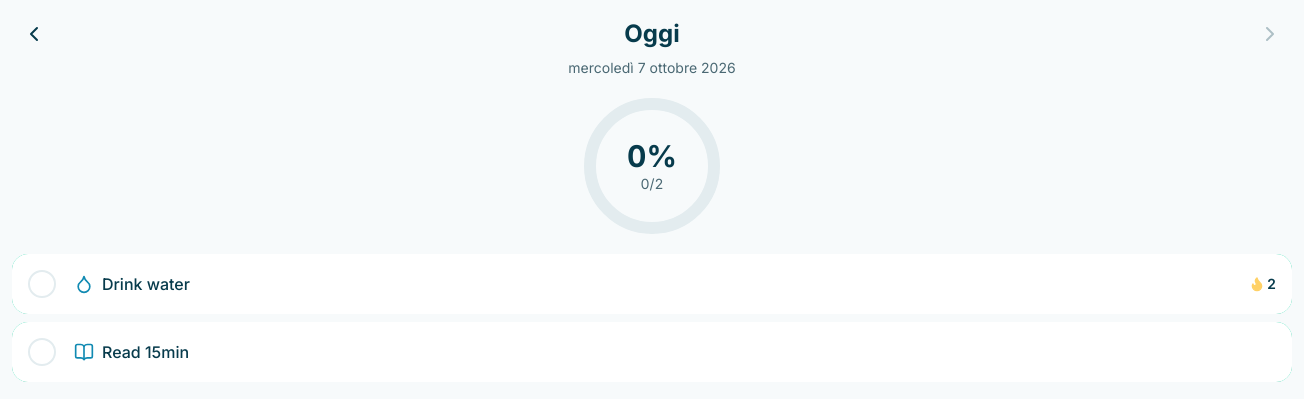
Scenario: HomePage › descrizione al tap sul nome
Click the button "Drink water" at (146, 284), box x1=102 y1=262 x2=1241 y2=306
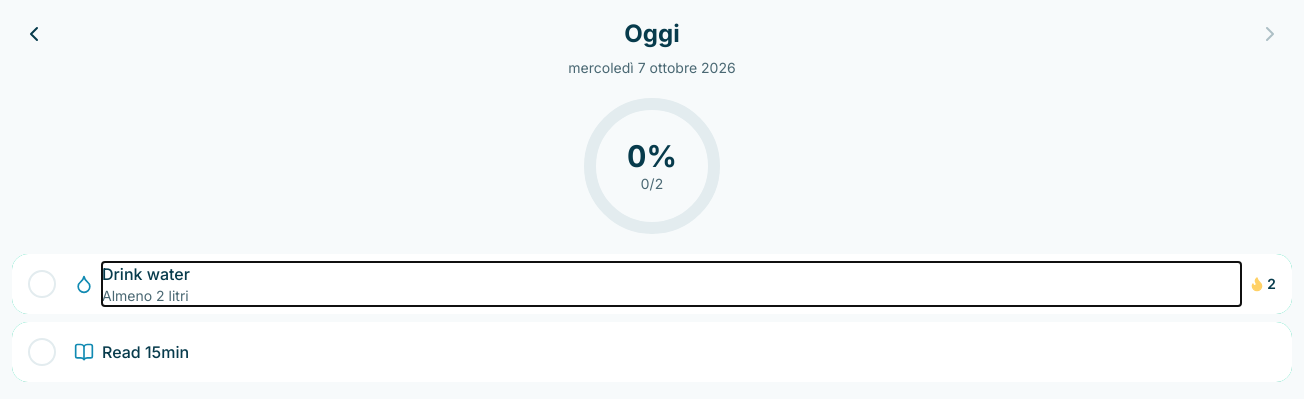
Now the text "Almeno 2 litri" is shown, box x1=102 y1=286 x2=189 y2=306
